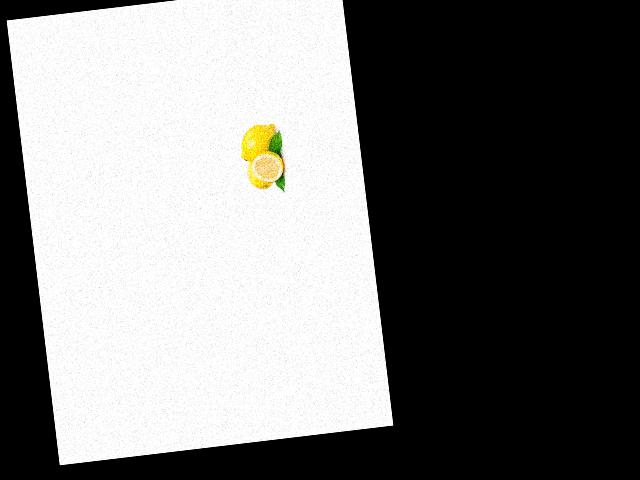lemon: (250, 148, 288, 182)
